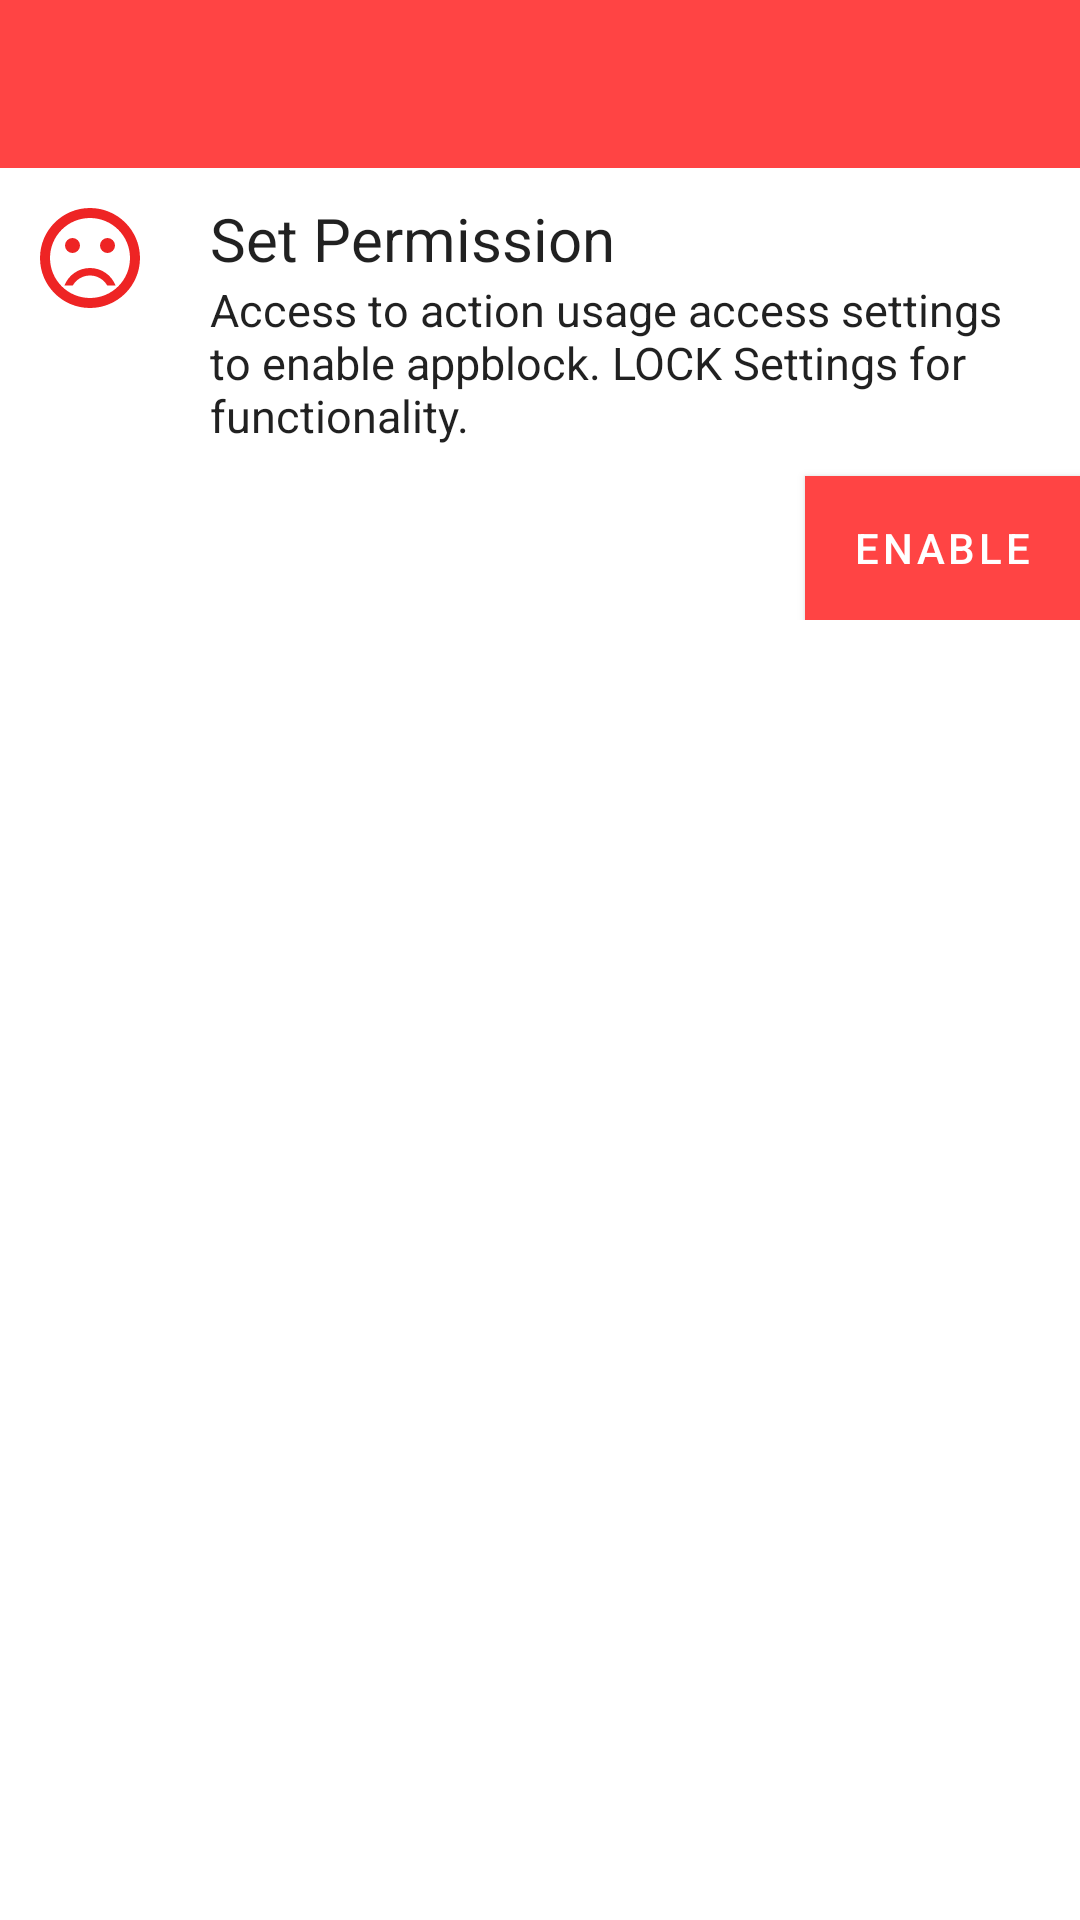

Locate icon controls on the screen. Image size 1080px×1920px, boxes as bbox=[x1, y1, x2, y2].
sentiment dissatisfied: bbox=[40, 208, 140, 308]
